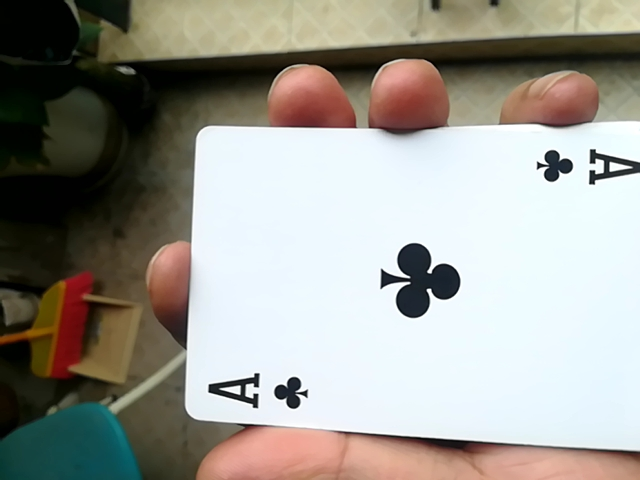mh a: (170, 126, 632, 457)
